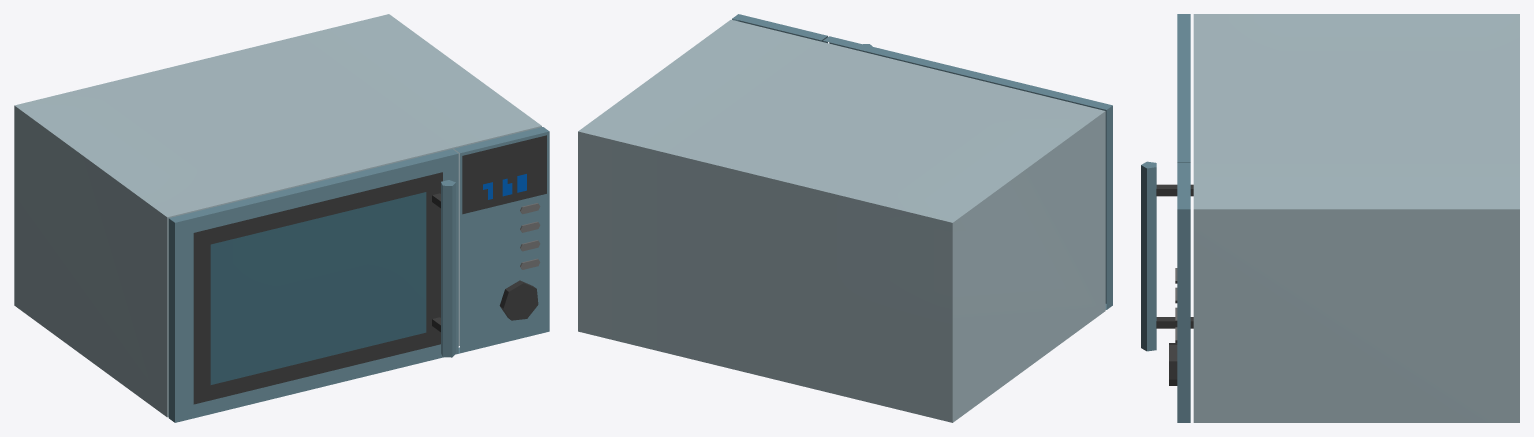
File: kitchen_item_029.glb
The picture shows the model from 3 angles, left to right: view 1: azimuth 30°, elevation 25°; view 2: azimuth 150°, elevation 25°; view 3: azimuth 270°, elevation 25°; orthographic projection. The views are drawn at different scales.
Parts seen in each view (by area): view 1: kitchen_item_029; view 2: kitchen_item_029; view 3: kitchen_item_029.
Boxes of the visible parts, x1,y1,x2,y2 form: kitchen_item_029: (14, 14, 549, 422); kitchen_item_029: (578, 14, 1112, 422); kitchen_item_029: (1141, 14, 1519, 422).
Bounding box in the file's own units: 0.5149 × 0.2627 × 0.4223.
Materials: 1 (1 with a texture image).
